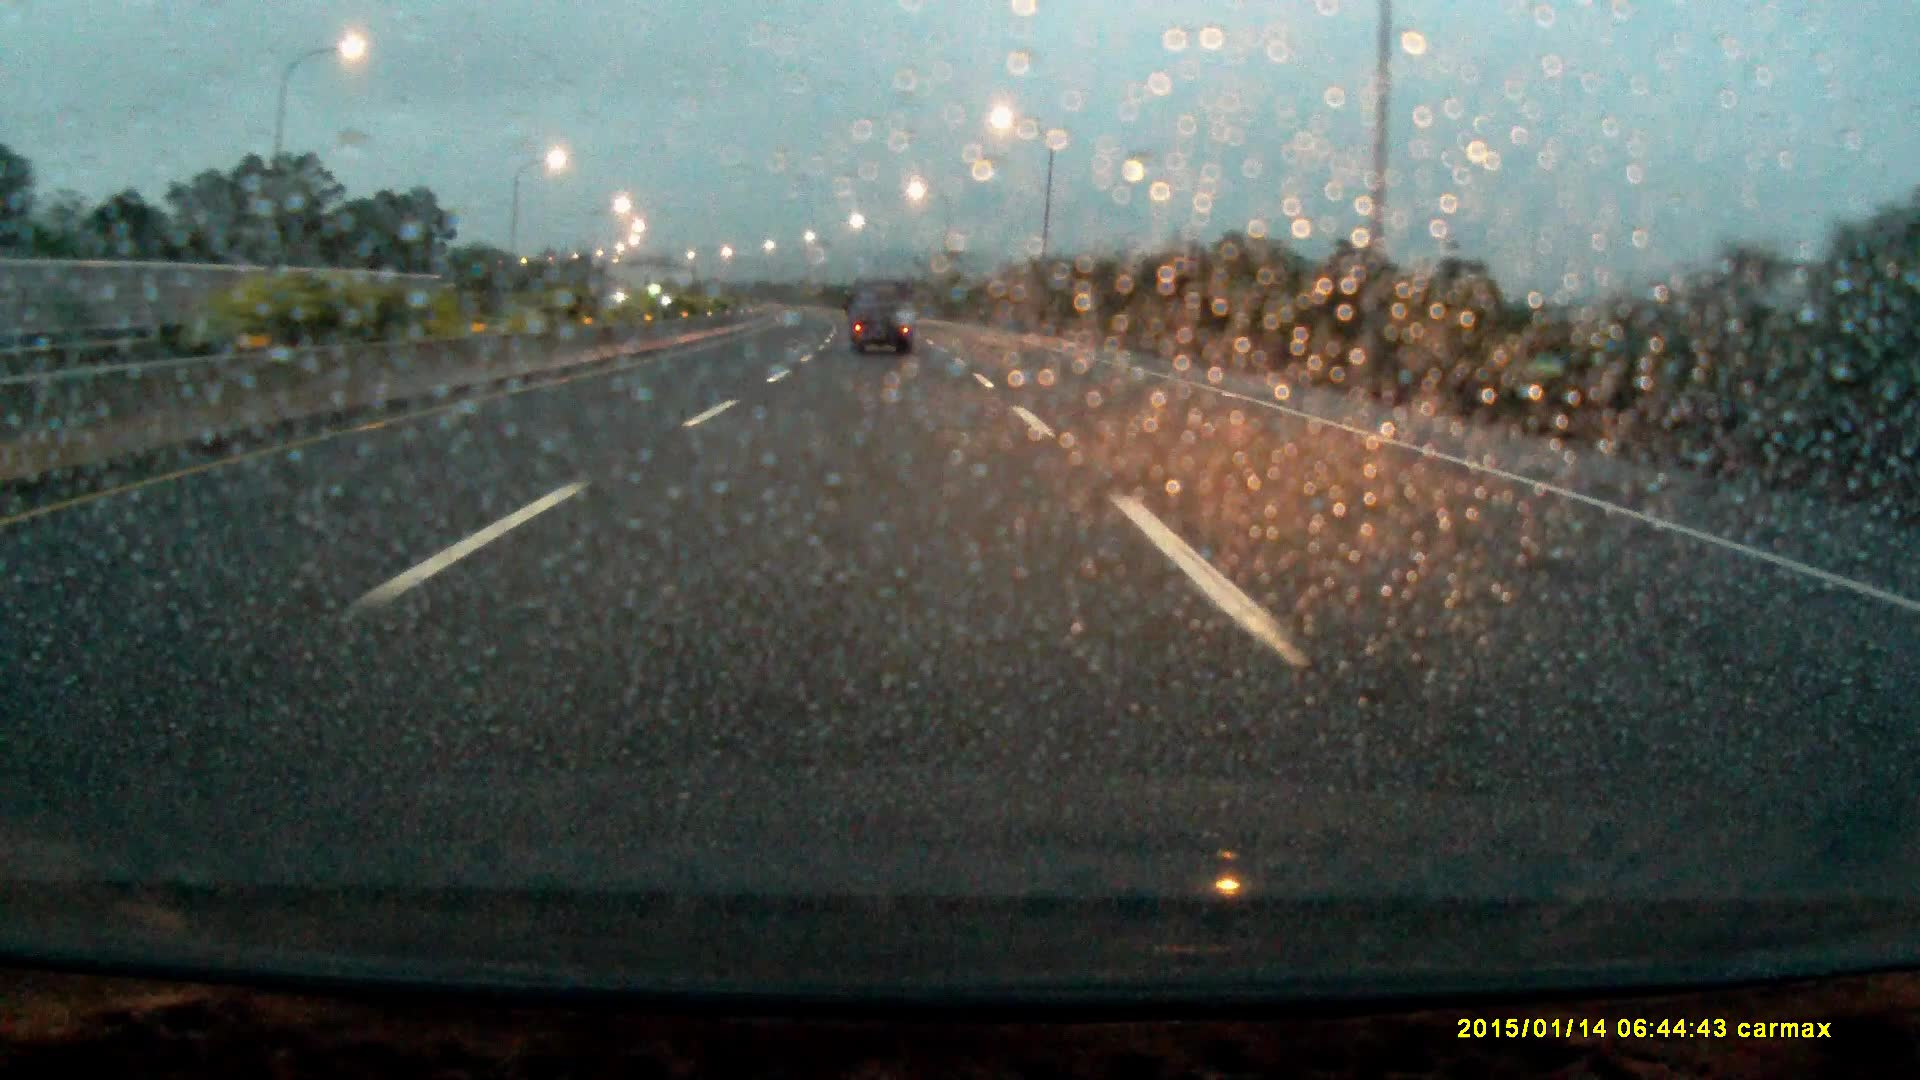vehicle: (851, 276, 916, 355)
